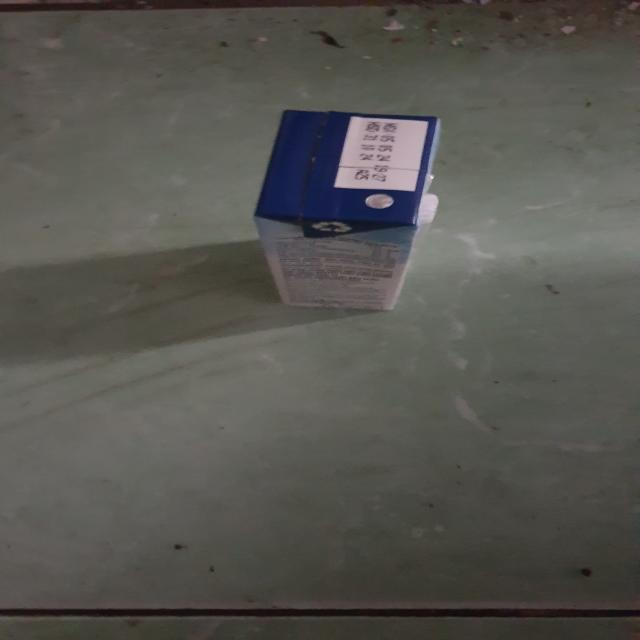TH: (248, 104, 450, 314)
